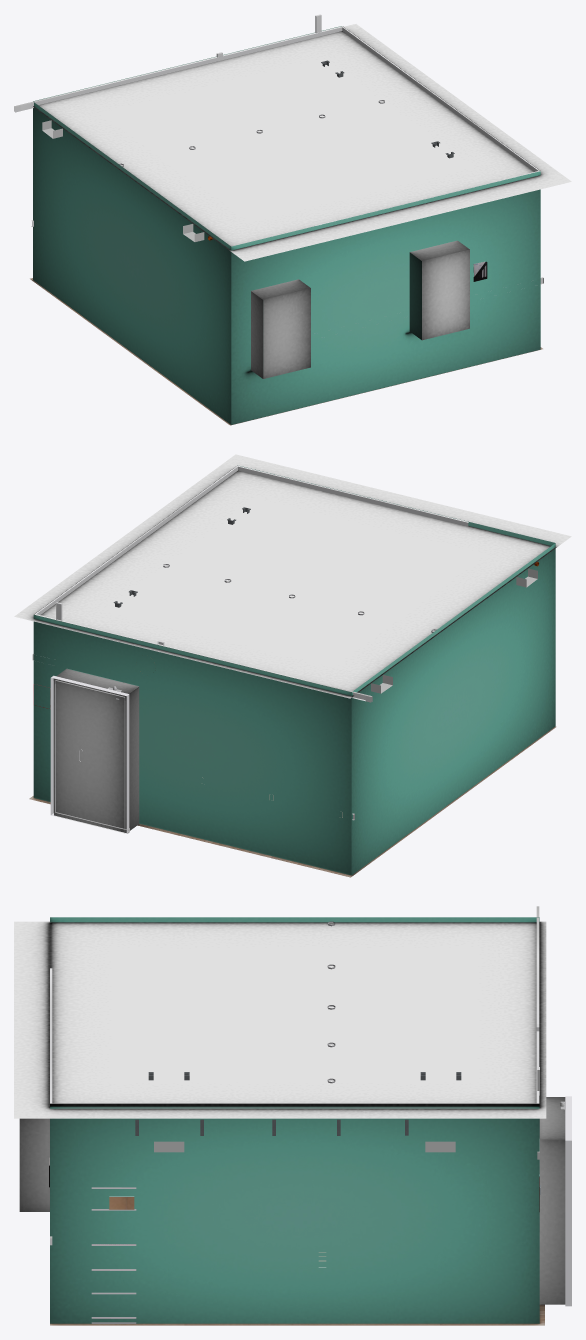
Rendered from releynaya.fbx.
The picture shows the model from 3 angles, top to bottom: view 1: azimuth 30°, elevation 25°; view 2: azimuth 150°, elevation 25°; view 3: azimuth 270°, elevation 25°; orthographic projection. The views are drawn at different scales.
Visible parts, largest first — view 1: walls, all_stuff; view 2: walls, all_stuff; view 3: walls, all_stuff, wires_top_Mesh, set1_diff_mod2.
Part boxes in pixels (x1=…): walls: x1=30, y1=24, x2=571, y2=425; all_stuff: x1=14, y1=14, x2=543, y2=284; walls: x1=14, y1=454, x2=571, y2=877; all_stuff: x1=32, y1=465, x2=538, y2=833; walls: x1=14, y1=917, x2=565, y2=1325; all_stuff: x1=50, y1=906, x2=571, y2=1323; wires_top_Mesh: x1=154, y1=1141, x2=455, y2=1152; set1_diff_mod2: x1=135, y1=1072, x2=461, y2=1135.
Bounding box in the file's own units: 5.61 × 3.05 × 6.37.
